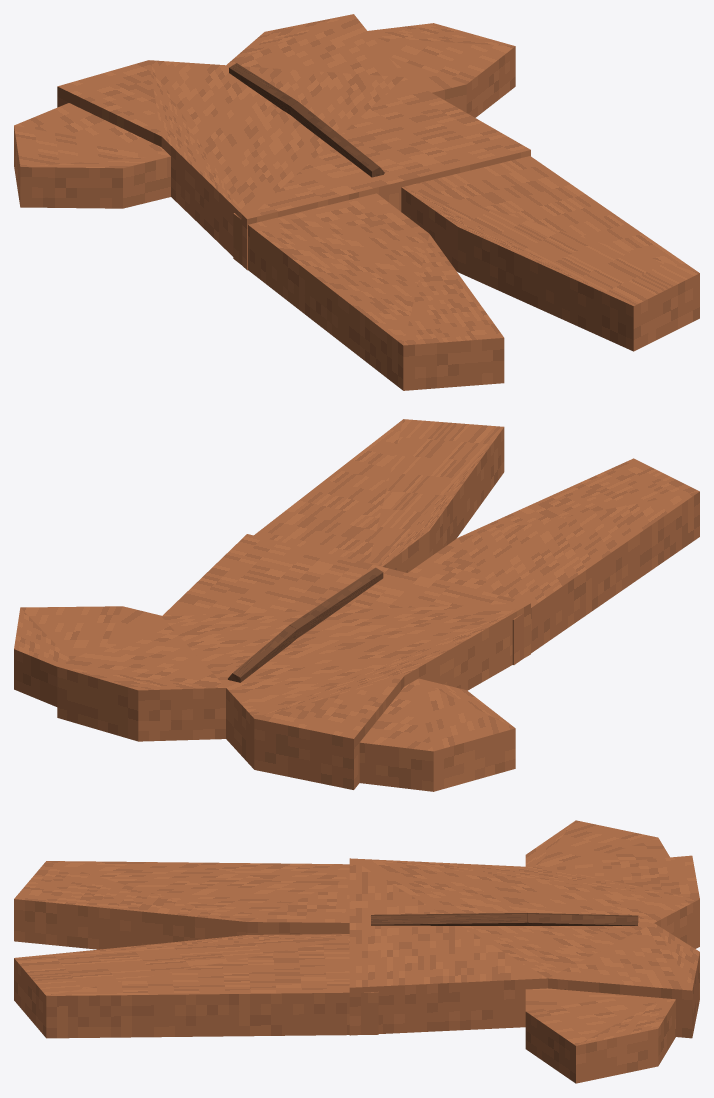
Rendered from jumpsuit_pocketless.glb.
The picture shows the model from 3 angles, top to bottom: view 1: azimuth 30°, elevation 25°; view 2: azimuth 150°, elevation 25°; view 3: azimuth 270°, elevation 25°; orthographic projection. The views are drawn at different scales.
Parts seen in each view (by area): view 1: block_leg (×2), block_one-piece torso, block_sleeve (×2), block_body zip 1, block_body zip 0; view 2: block_one-piece torso, block_leg (×2), block_sleeve (×2), block_body zip 1, block_body zip 0; view 3: block_leg (×2), block_one-piece torso, block_sleeve (×2), block_body zip 1, block_body zip 0.
Boxes of the visible parts, x1,y1,x2,y2 form: block_leg (×2): (233, 156, 699, 390); block_one-piece torso: (57, 14, 530, 270); block_sleeve (×2): (14, 23, 515, 208); block_body zip 1: (290, 102, 384, 177); block_body zip 0: (229, 63, 297, 114); block_one-piece torso: (57, 534, 530, 789); block_leg (×2): (254, 419, 699, 664); block_sleeve (×2): (14, 606, 515, 791); block_body zip 1: (289, 567, 383, 637); block_body zip 0: (228, 625, 297, 682); block_leg (×2): (14, 861, 378, 1038); block_one-piece torso: (349, 855, 699, 1038); block_sleeve (×2): (525, 820, 675, 1083); block_body zip 1: (371, 913, 527, 925); block_body zip 0: (527, 913, 638, 925).
Size of the model in its own units: 0.6168 by 0.0752 by 0.7925.
Materials: 1 (1 with a texture image).
